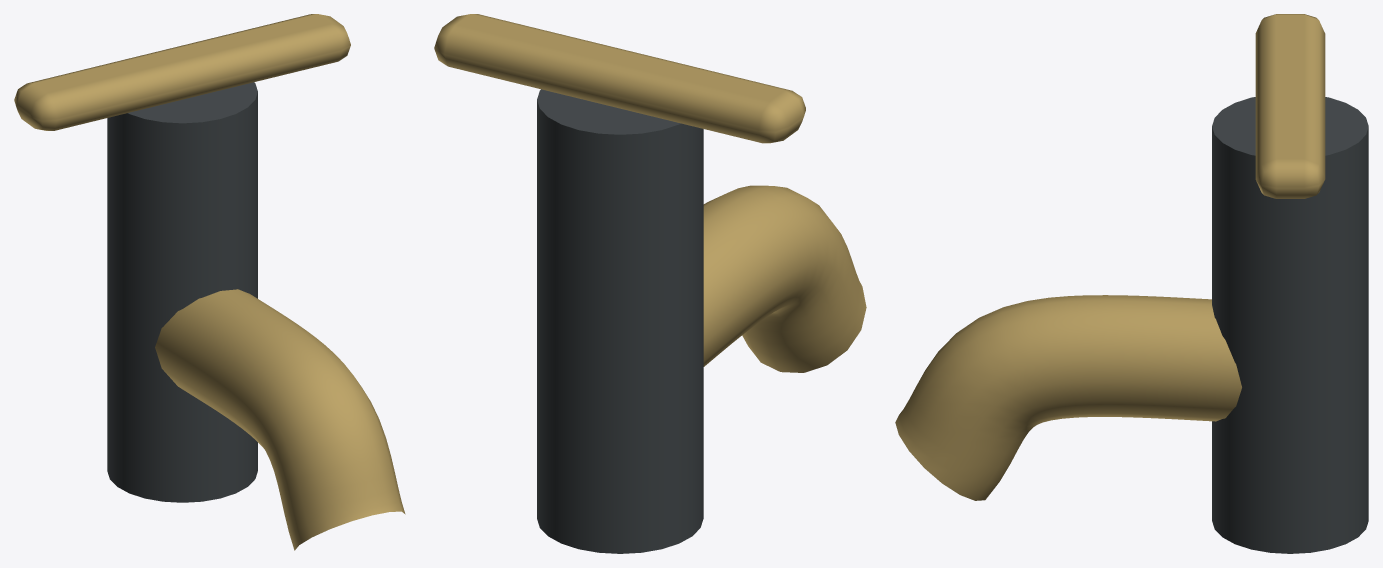
The model's file is undercity-sewers-and-thieves-den-wall-tap-fb727852__27227.glb.
The picture shows the model from 3 angles, left to right: view 1: azimuth 30°, elevation 25°; view 2: azimuth 150°, elevation 25°; view 3: azimuth 270°, elevation 25°; orthographic projection. The views are drawn at different scales.
Parts seen in each view (by area): view 1: wall-tap; view 2: wall-tap; view 3: wall-tap.
Boxes of the visible parts, <box> form: wall-tap: <box>14,14,405,550</box>; wall-tap: <box>434,14,866,553</box>; wall-tap: <box>895,14,1368,553</box>.
Bounding box in the file's own units: 0.22 × 0.275 × 0.2719.
